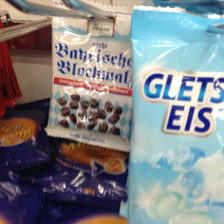candy: (130, 8, 224, 222), (51, 1, 133, 149)
